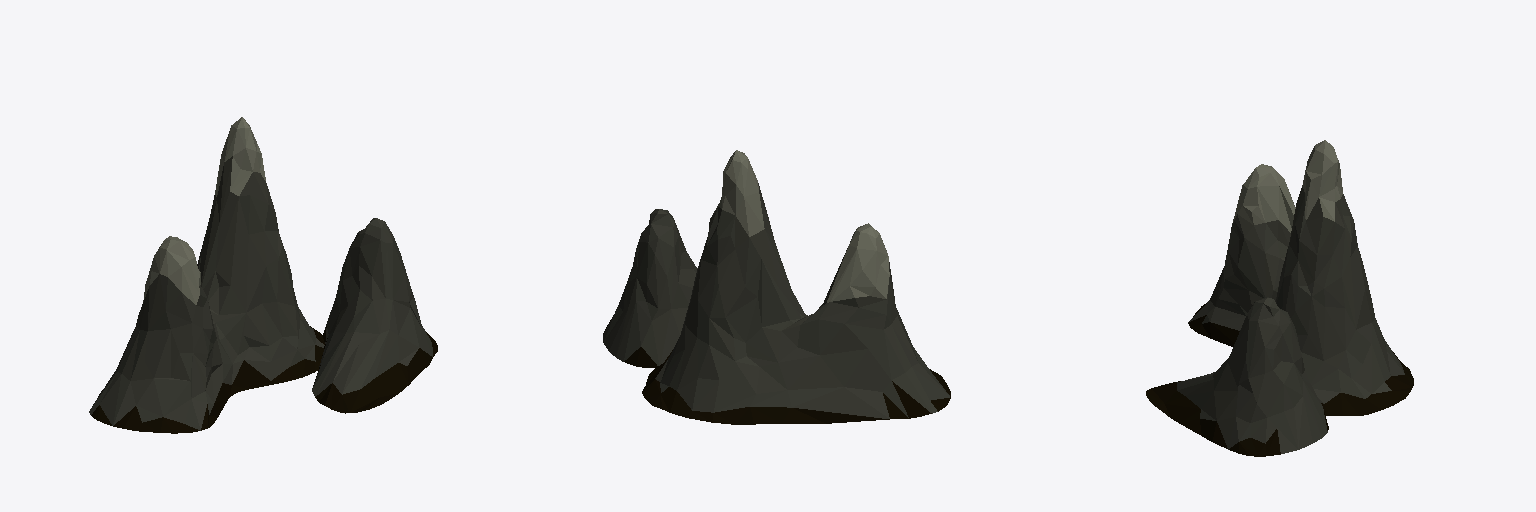
Rendered from Mountain_Group_2_Cube.obj.
3 views of the same model, side by side, from view 1: azimuth 30°, elevation 25°; view 2: azimuth 150°, elevation 25°; view 3: azimuth 270°, elevation 25° (orthographic).
Parts seen in each view (by area): view 1: Mountain_Group_2_Cube.044; view 2: Mountain_Group_2_Cube.044; view 3: Mountain_Group_2_Cube.044.
Boxes of the visible parts, x1=… form: Mountain_Group_2_Cube.044: x1=89, y1=117, x2=437, y2=433; Mountain_Group_2_Cube.044: x1=603, y1=150, x2=950, y2=424; Mountain_Group_2_Cube.044: x1=1146, y1=140, x2=1413, y2=456.
Size of the model in its own units: 3.58 by 2.44 by 2.46.